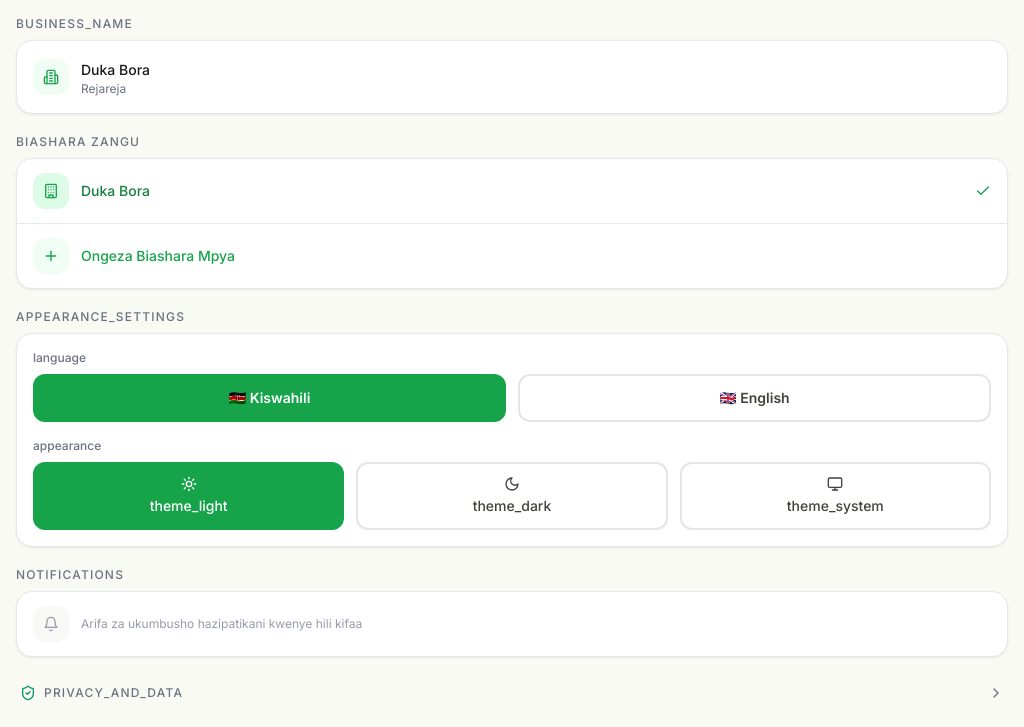
Test: SettingsScreen › expands Privacy & Data to reveal the statement and telemetry toggle
What coordinates should you click on to do the following:
click the button "privacy_and_data"
I would click on:
 (114, 692)
Its box is left=16, top=677, right=1008, bottom=709.
(page scrolled)
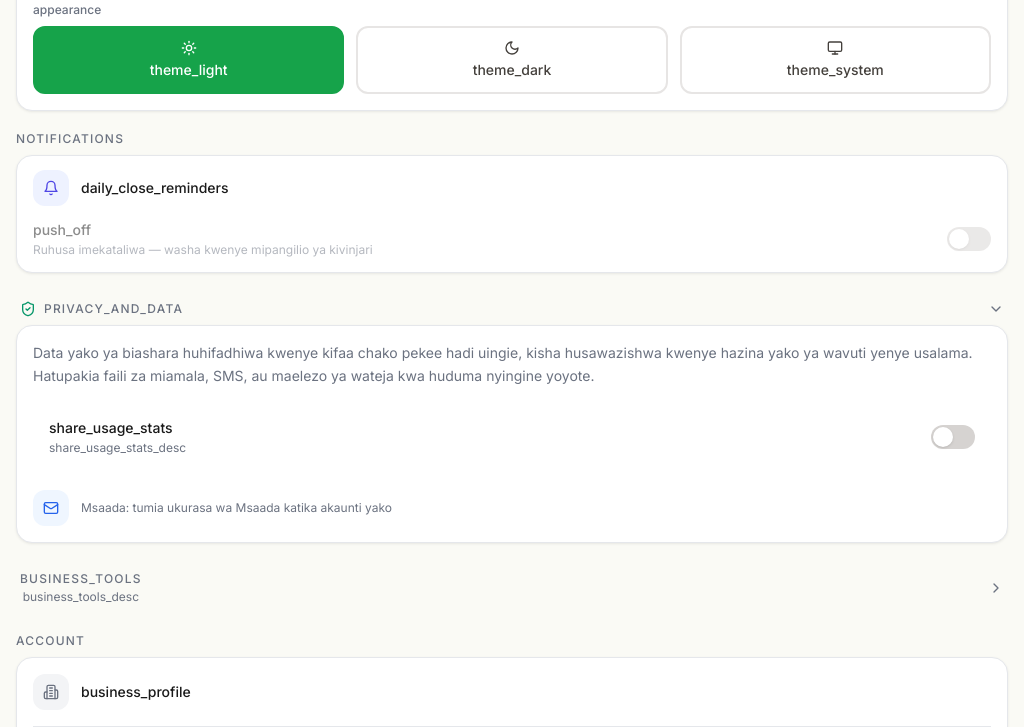
Check: the text "share_usage_stats" is shown, box left=49, top=418, right=186, bottom=438
Check: the switch labelled "share_usage_stats" is shown, box left=33, top=404, right=991, bottom=470
